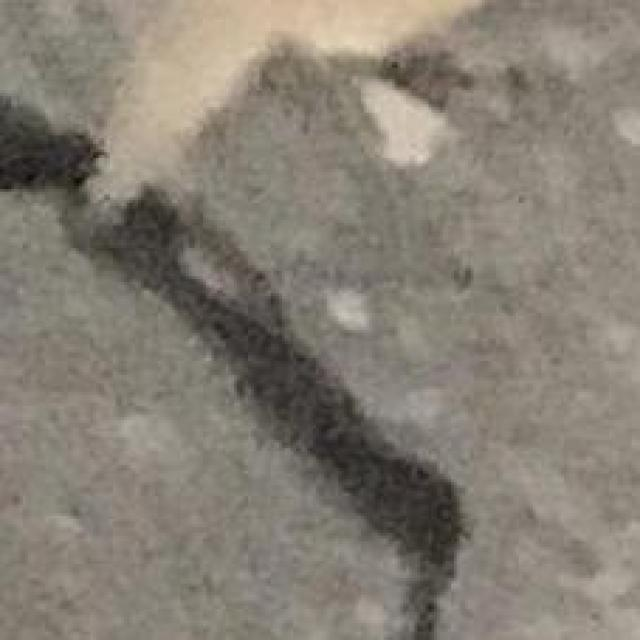Crack: (0, 90, 462, 637)
